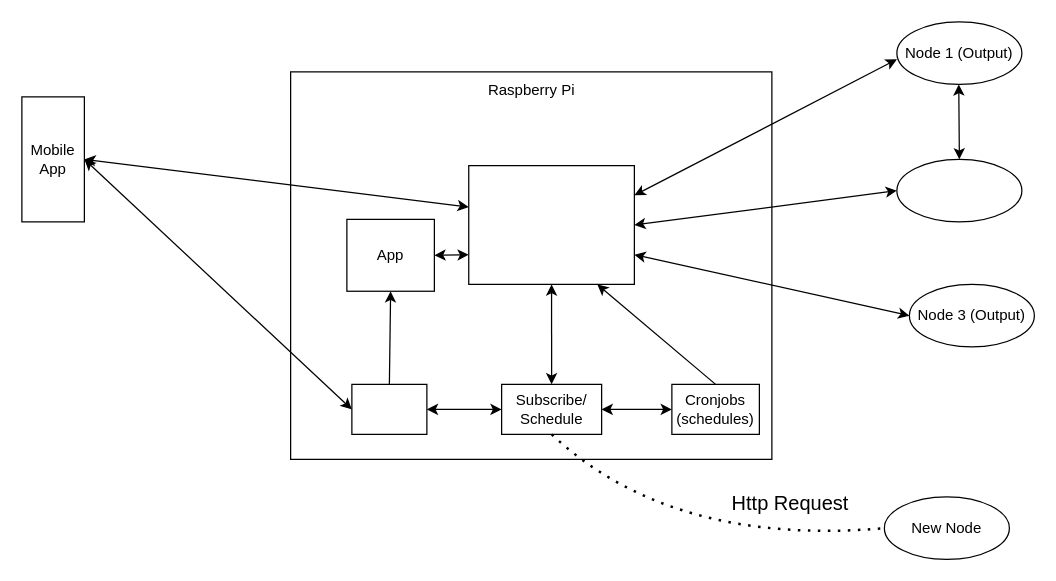
Image size: 1056x581. Some labels were removed from this diagram. Each missing label, with the centre of its shape:
"Database" goes at [389,408].
"MQTT BROKER" goes at [551,224].
"Node 2 (Input)" goes at [959,190].
